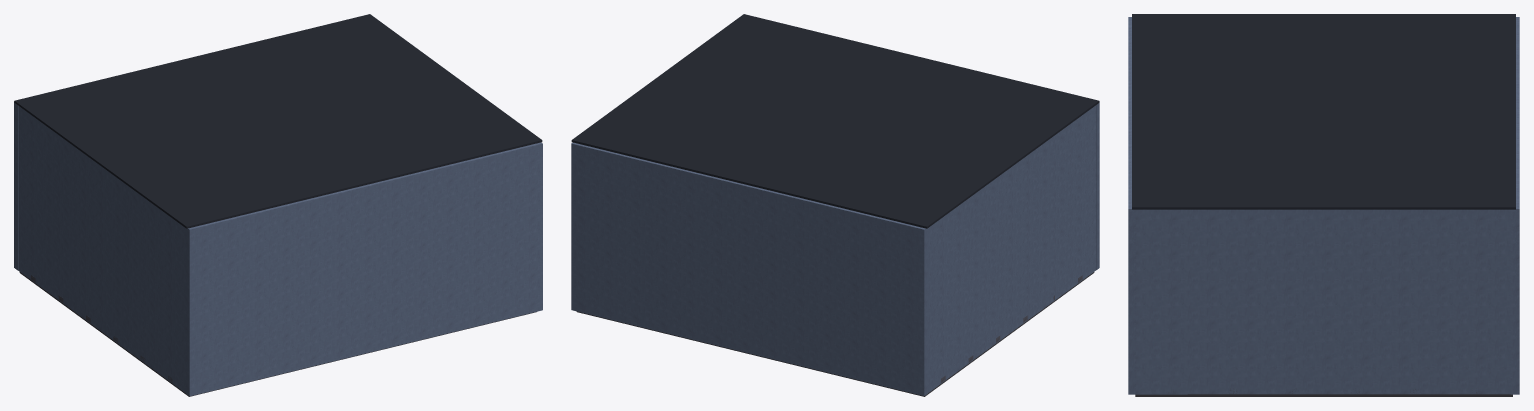
Rendered from trading-hall-v2.glb.
3 views of the same model, side by side, from view 1: azimuth 30°, elevation 25°; view 2: azimuth 150°, elevation 25°; view 3: azimuth 270°, elevation 25° (orthographic). The views are drawn at different scales.
Visible parts, largest first — view 1: architecture / Mineral plaster, architecture / Black ceramic, architecture / Stone joints; view 2: architecture / Mineral plaster, architecture / Black ceramic, architecture / Stone joints; view 3: architecture / Black ceramic, architecture / Mineral plaster, architecture / Stone joints.
Part boxes in pixels (x1,y1,x2,y2): architecture / Mineral plaster: (14, 101, 542, 396); architecture / Black ceramic: (14, 14, 542, 228); architecture / Stone joints: (19, 272, 536, 396); architecture / Mineral plaster: (571, 101, 1099, 395); architecture / Black ceramic: (571, 14, 1099, 228); architecture / Stone joints: (576, 272, 1094, 396); architecture / Black ceramic: (1132, 14, 1515, 209); architecture / Mineral plaster: (1128, 17, 1519, 394); architecture / Stone joints: (1135, 394, 1512, 396).
Size of the model in its own units: 28.59 by 13.22 by 24.45.
19 materials, 10 textured.
